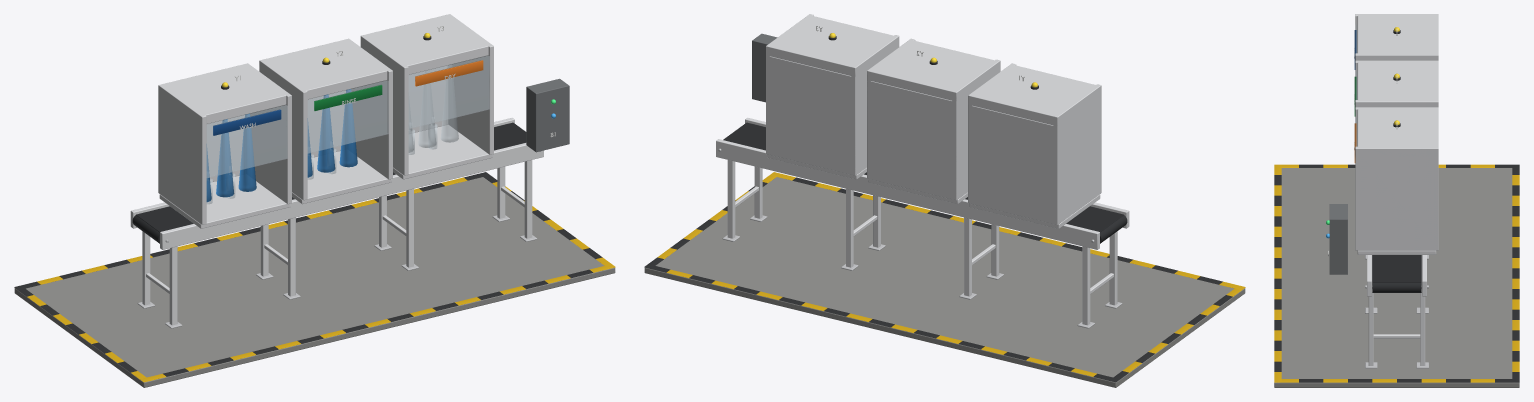
File: machine_washer.glb
The picture shows the model from 3 angles, left to right: view 1: azimuth 30°, elevation 25°; view 2: azimuth 150°, elevation 25°; view 3: azimuth 270°, elevation 25°; orthographic projection. The views are drawn at different scales.
Parts seen in each view (by area): view 1: frame, rinse_mesh, wash_mesh, air_mesh; view 2: frame; view 3: frame.
Boxes of the visible parts, x1,y1,x2,y2 form: frame: (14,14,615,387); rinse_mesh: (307,89,357,177); wash_mesh: (206,113,256,202); air_mesh: (408,64,458,152); frame: (644,14,1245,387); frame: (1274,14,1519,387).
Bounding box in the file's own units: 4.2 × 1.92 × 2.
